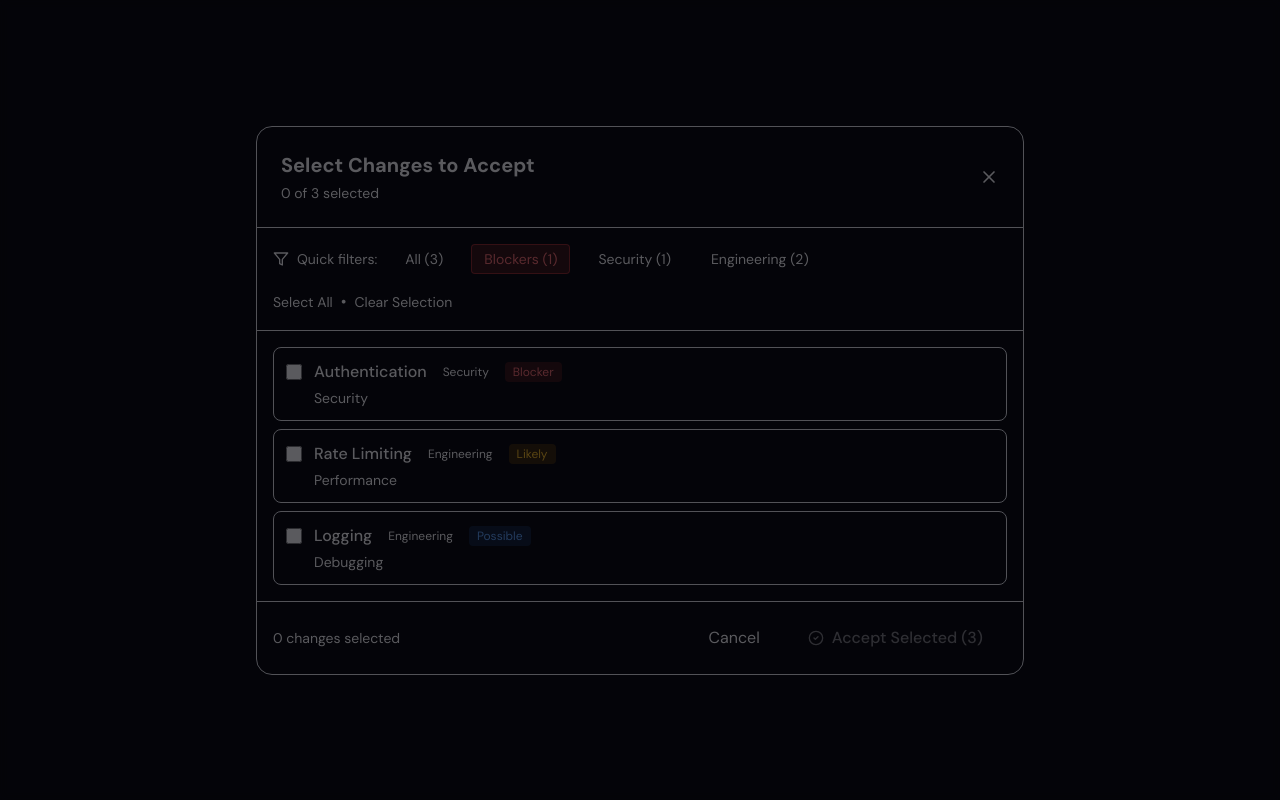
Scenario: BulkAcceptPanel › filters by team when team button clicked
The image size is (1280, 800).
Click the button "security (1)" at x=635, y=258, box [586,244,683,272]
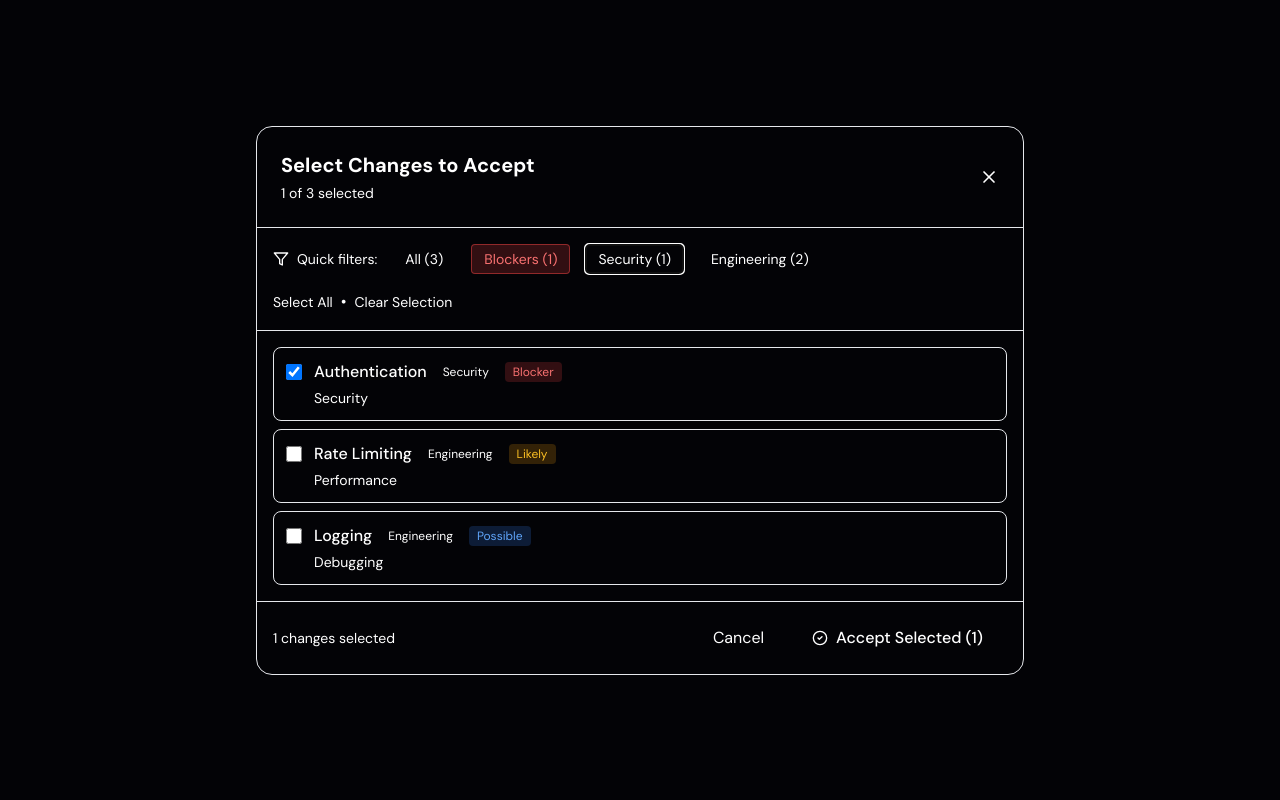
Expected: the text "1 of 3 selected" is shown, [281,184,374,202]
